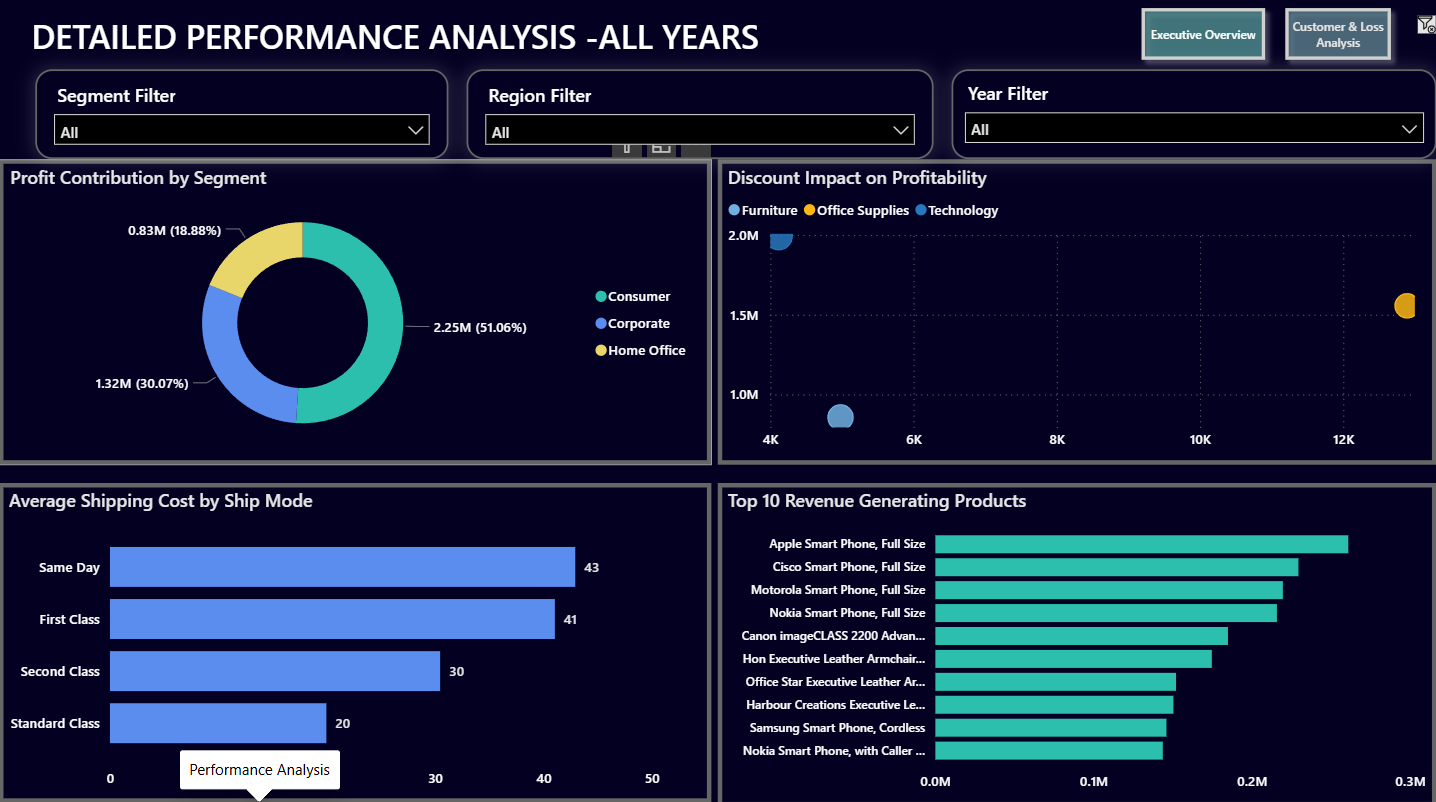

This screenshot's page, from the dashboard's own definition file:
{"tool":"powerbi","page":{"name":"Performance Analysis","canvas":[1280,720],"ordinal":1},"visuals":[{"type":"donutChart","title":"Profit Contribution by Segment","fields":{"Category":["ecommerce_db superstore.segment"],"Y":["Sum(ecommerce_db superstore.profit)"]},"box":[0,144,634,272],"z":0},{"type":"scatterChart","title":"Discount Impact on Profitability","fields":{"X":["Sum(ecommerce_db superstore.discount)"],"Y":["Sum(ecommerce_db superstore.profit)"],"Size":["Sum(ecommerce_db superstore.sales)"],"Series":["ecommerce_db superstore.category"]},"box":[640,144,640,272],"z":1000},{"type":"clusteredBarChart","title":"Average Shipping Cost by Ship Mode","fields":{"Category":["ecommerce_db superstore.ship_mode"],"Y":["Avg(ecommerce_db superstore.shipping_cost)"]},"box":[0,432,634,285],"z":2000},{"type":"clusteredBarChart","title":"Top 10 Revenue Generating Products","fields":{"Category":["ecommerce_db superstore.product_name"],"Y":["Sum(ecommerce_db superstore.sales)"]},"box":[640,432,640,288],"z":3000},{"type":"slicer","fields":{"Values":["ecommerce_db superstore.Year"]},"box":[848,64,432,80],"z":4000},{"type":"slicer","fields":{"Values":["ecommerce_db superstore.Region"]},"box":[416,64,416,80],"z":5000},{"type":"slicer","fields":{"Values":["ecommerce_db superstore.Segment"]},"box":[32,64,368,80],"z":6000},{"type":"actionButton","box":[1008,0,128,64],"z":7000},{"type":"actionButton","box":[1136,0,112,64],"z":8000},{"type":"cardVisual","fields":{"Data":["ecommerce_db superstore.Title 2"]},"box":[0,0,864,64],"z":9000},{"type":"image","box":[1264,16,16,16],"z":10000}]}

Visuals, with their boxes in screenshot pixels (x1, y1, x2, y2), scaled from the page's 1280x720 canvas onto the 1436x802 screenshot:
"Profit Contribution by Segment" donutChart: <bbox>0, 160, 711, 463</bbox>
"Discount Impact on Profitability" scatterChart: <bbox>718, 160, 1435, 463</bbox>
"Average Shipping Cost by Ship Mode" clusteredBarChart: <bbox>0, 481, 711, 799</bbox>
"Top 10 Revenue Generating Products" clusteredBarChart: <bbox>718, 481, 1435, 801</bbox>
slicer - ecommerce_db superstore.Year: <bbox>951, 71, 1435, 160</bbox>
slicer - ecommerce_db superstore.Region: <bbox>467, 71, 933, 160</bbox>
slicer - ecommerce_db superstore.Segment: <bbox>36, 71, 449, 160</bbox>
actionButton: <bbox>1131, 0, 1274, 71</bbox>
actionButton: <bbox>1274, 0, 1400, 71</bbox>
cardVisual - ecommerce_db superstore.Title 2: <bbox>0, 0, 969, 71</bbox>
image: <bbox>1418, 18, 1435, 36</bbox>
